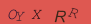O: (7, 9, 18, 20)
R: (54, 10, 67, 24), (68, 7, 79, 19)
X: (32, 9, 42, 20)
Y: (16, 10, 26, 22)
